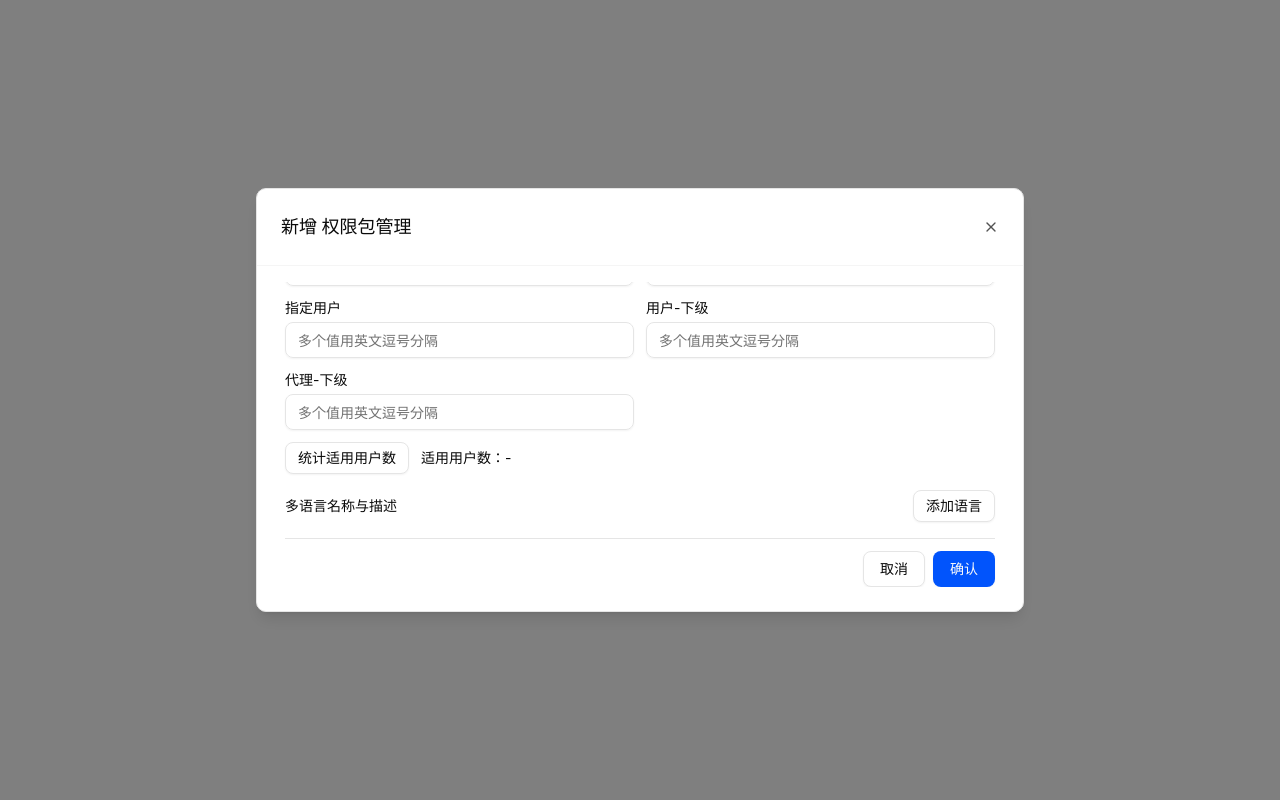
Test: PermPackageDialog B1：name 空 → 提交被拦（dom project） › name 留空点提交：必填提示可见、不发出 add/edit 请求
(page scrolled)
Click the button with test id "spread-perm-submit-button" at [964, 569], box x1=933 y1=551 x2=995 y2=587
(page scrolled)
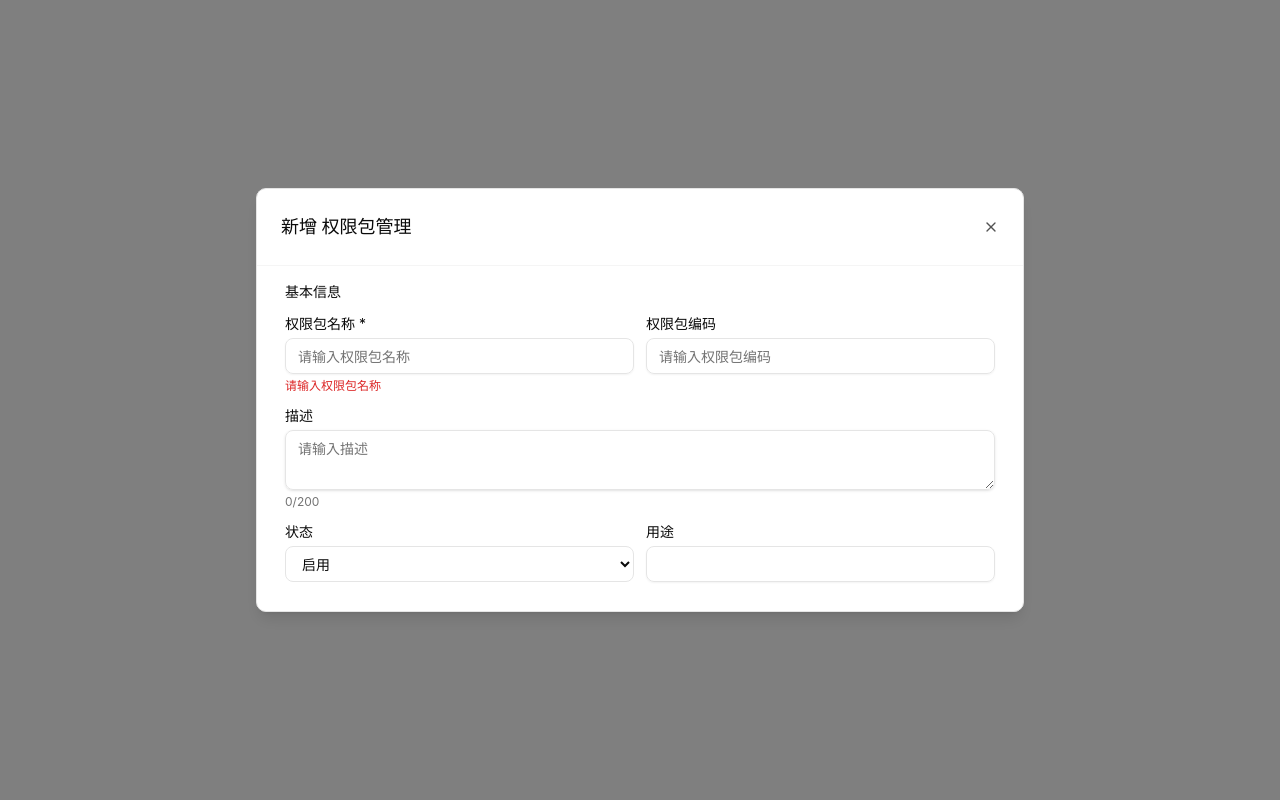
Now the text "请输入权限包名称" is shown, box x1=285 y1=378 x2=381 y2=393
